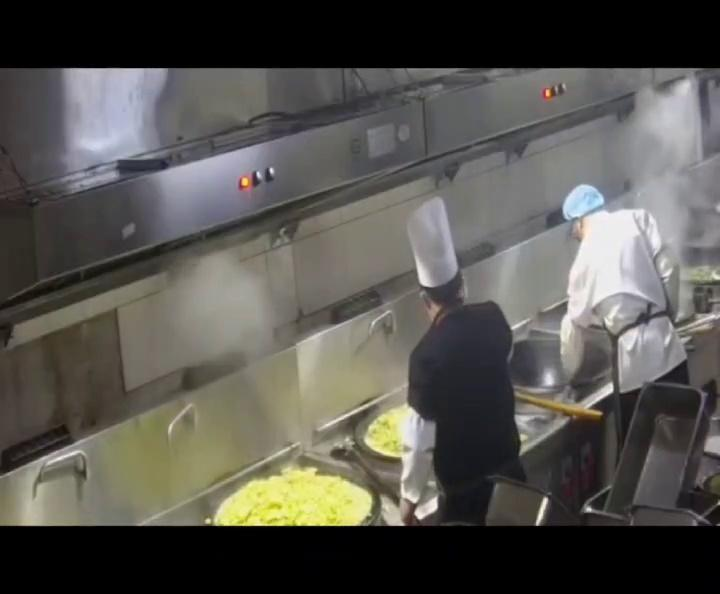gloves: (560, 183, 603, 220)
